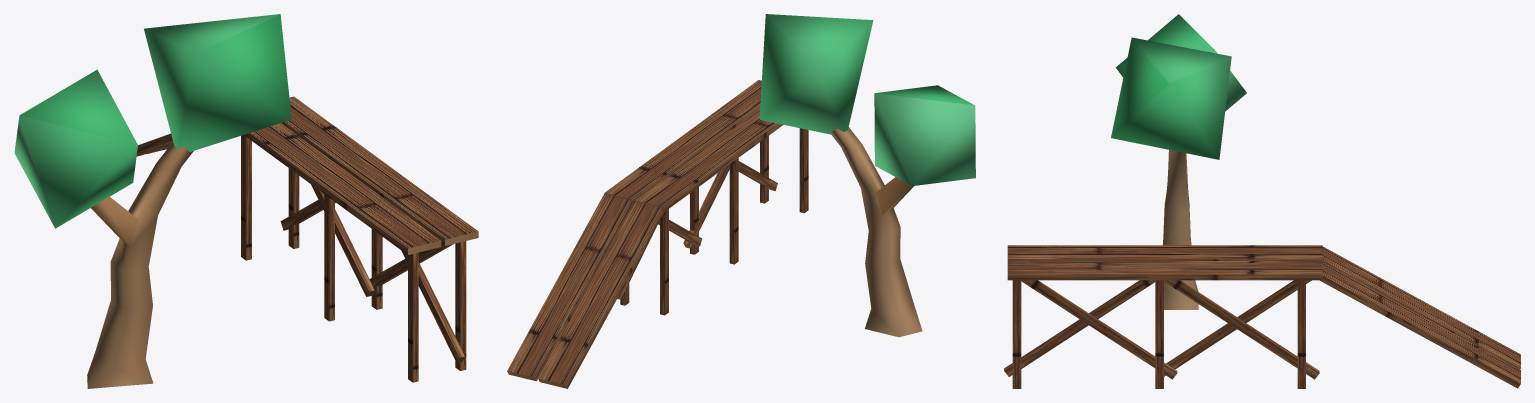
The model's file is environmane.FBX.
3 views of the same model, side by side, from view 1: azimuth 30°, elevation 25°; view 2: azimuth 150°, elevation 25°; view 3: azimuth 270°, elevation 25° (orthographic). The views are drawn at different scales.
Visible parts, largest first — view 1: tree, obstacle; view 2: tree, obstacle; view 3: obstacle, tree.
Boxes of the visible parts, x1,y1,x2,y2 form: tree: (14,14,291,388); obstacle: (136,96,478,382); tree: (759,14,975,337); obstacle: (507,80,808,388); obstacle: (1004,245,1520,388); tree: (1111,14,1246,309).
Bounding box in the file's own units: 87.52 × 77.61 × 128.
